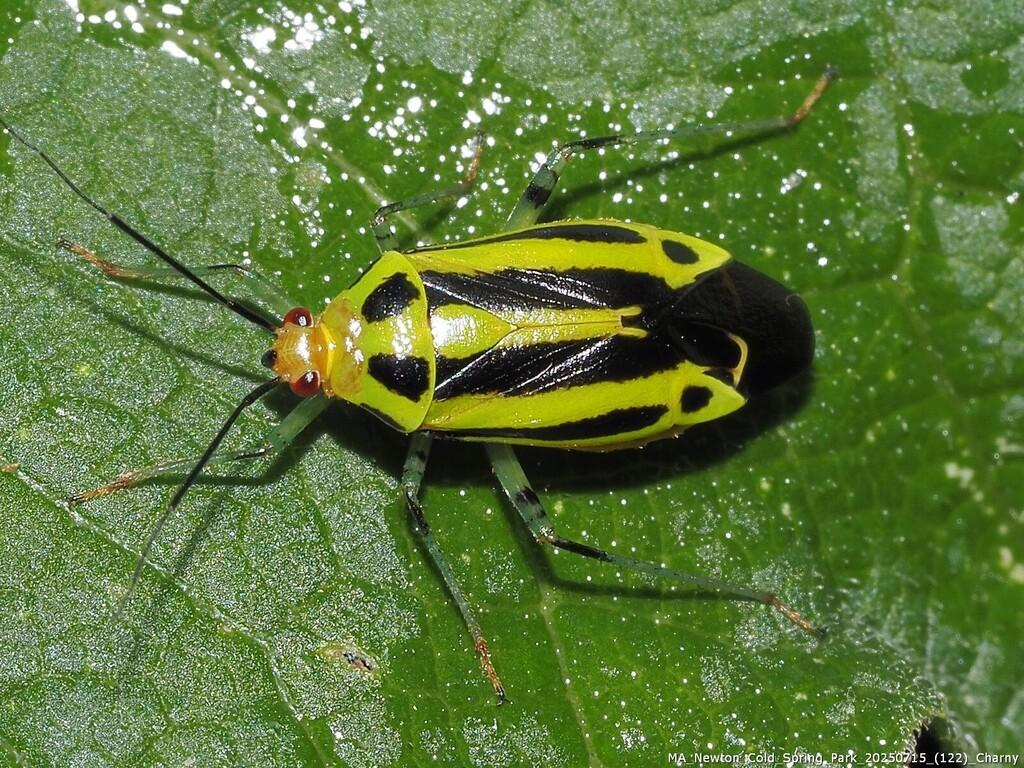plant_bugs: (1, 46, 1020, 744)
